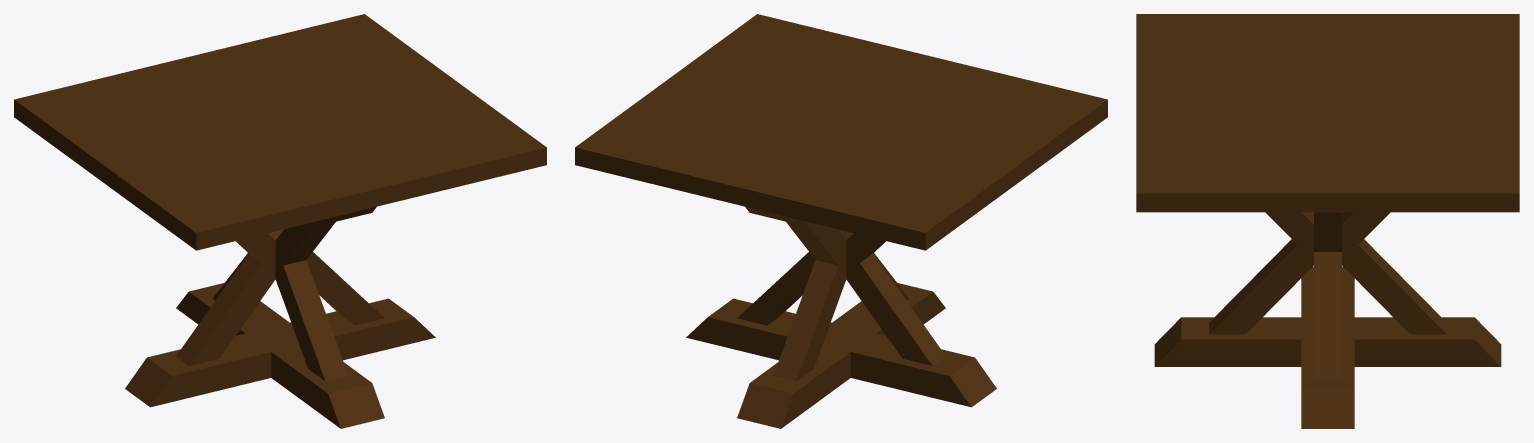
Rendered from table.glb.
The picture shows the model from 3 angles, left to right: view 1: azimuth 30°, elevation 25°; view 2: azimuth 150°, elevation 25°; view 3: azimuth 270°, elevation 25°; orthographic projection. The views are drawn at different scales.
Parts seen in each view (by area): view 1: Cube.001; view 2: Cube.001; view 3: Cube.001.
Boxes of the visible parts, box(x1,y1,x2,y2) form: Cube.001: box(14, 14, 546, 428); Cube.001: box(575, 14, 1107, 428); Cube.001: box(1136, 14, 1519, 428).
Size of the model in its own units: 3.21 by 2.09 by 2.89.
1 material, 1 textured.
